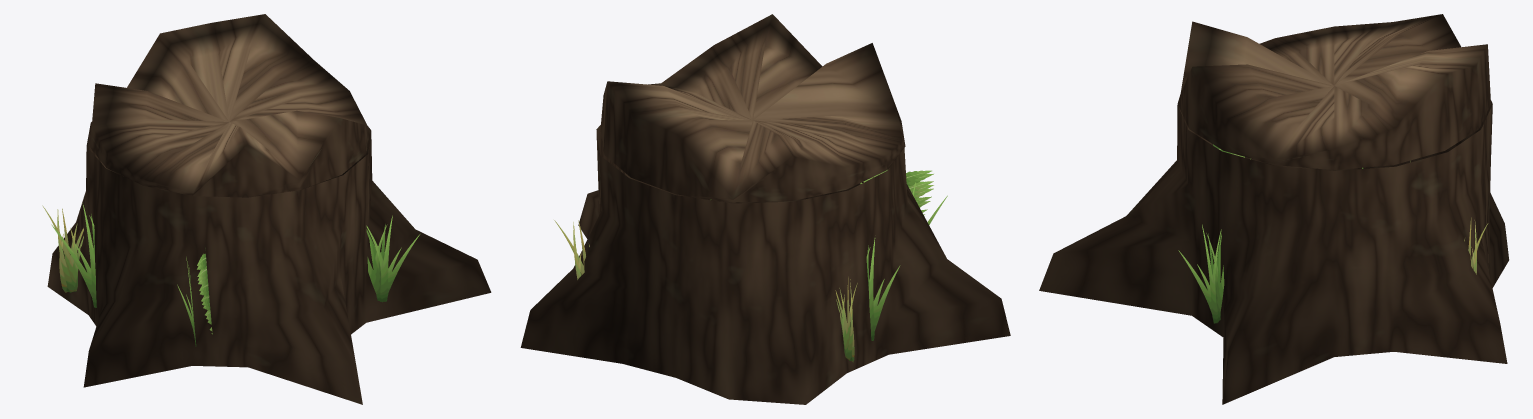
File: stump.glb
The picture shows the model from 3 angles, left to right: view 1: azimuth 30°, elevation 25°; view 2: azimuth 150°, elevation 25°; view 3: azimuth 270°, elevation 25°; orthographic projection. The views are drawn at different scales.
Parts seen in each view (by area): view 1: wood, leaves; view 2: wood, leaves; view 3: wood, leaves.
Part boxes in pixels (<box>): wood: <box>47,14,491,404</box>; leaves: <box>42,203,420,346</box>; wood: <box>520,14,1010,404</box>; leaves: <box>554,169,947,362</box>; wood: <box>1039,14,1509,404</box>; leaves: <box>1178,144,1488,323</box>.
Size of the model in its own units: 1.25 by 0.6999 by 1.16.
2 materials, 2 textured.
